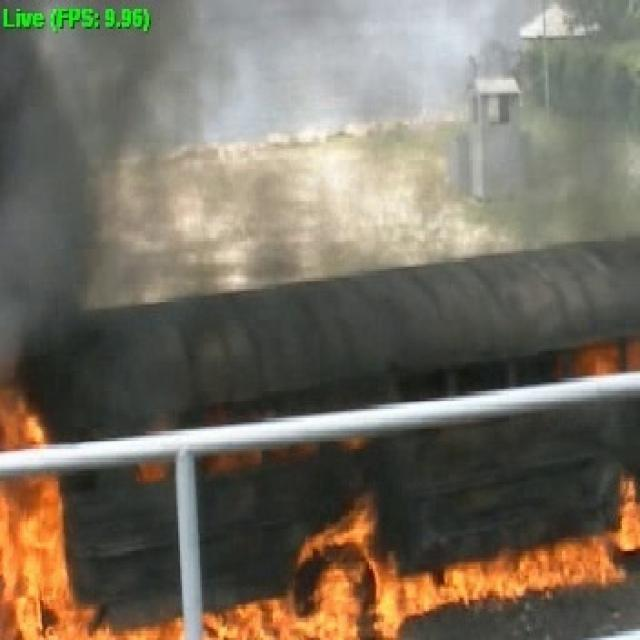fire: (0, 406, 72, 640), (284, 521, 375, 636)
